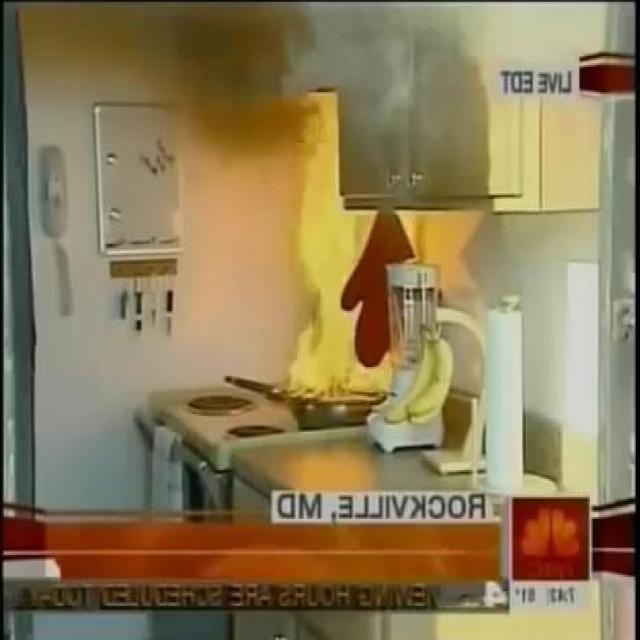fire: (276, 2, 455, 143)
smoke: (290, 140, 392, 402)
